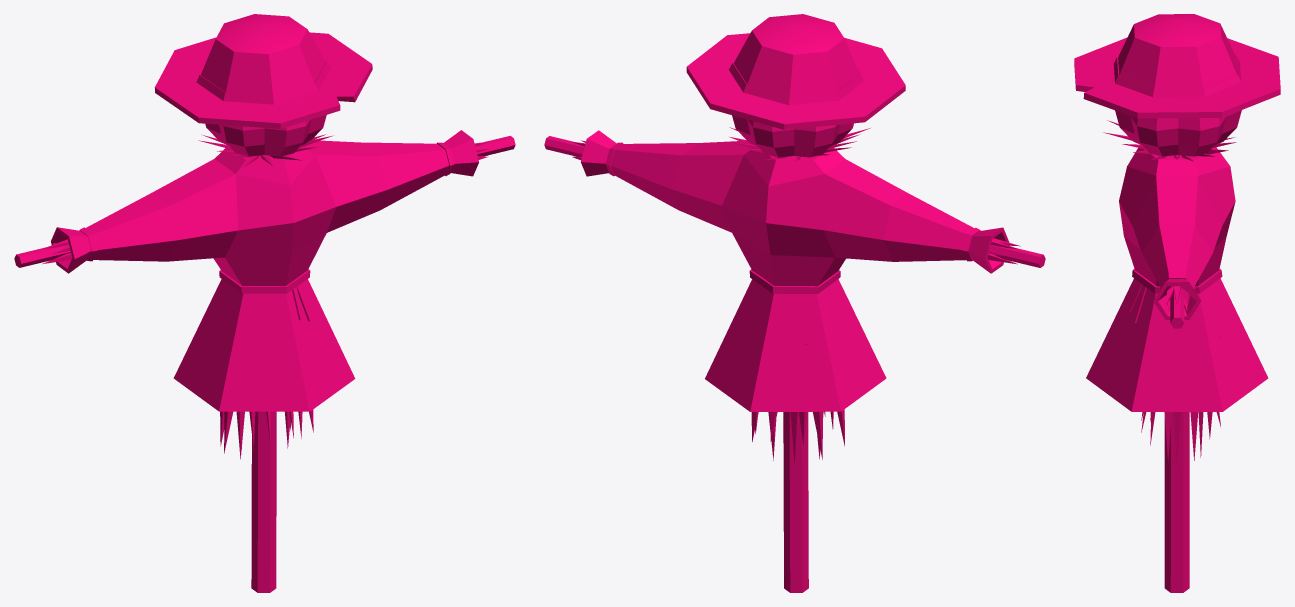
The model's file is SM_SS_Scarecrow.fbx.
The picture shows the model from 3 angles, left to right: view 1: azimuth 30°, elevation 25°; view 2: azimuth 150°, elevation 25°; view 3: azimuth 270°, elevation 25°; orthographic projection.
Visible parts, largest first — view 1: SM_SS_Scarecrow; view 2: SM_SS_Scarecrow; view 3: SM_SS_Scarecrow.
Part boxes in pixels (x1,y1,x2,y2): SM_SS_Scarecrow: (14, 14, 515, 592); SM_SS_Scarecrow: (544, 14, 1045, 592); SM_SS_Scarecrow: (1074, 14, 1280, 592).
Bounding box in the file's own units: 90.34 × 32.53 × 98.54.
